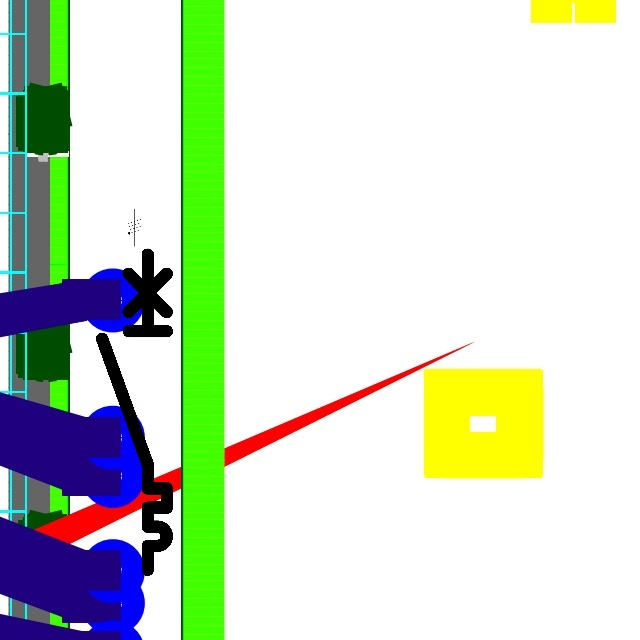interruptor_termomagnetico: (94, 246, 175, 578)
